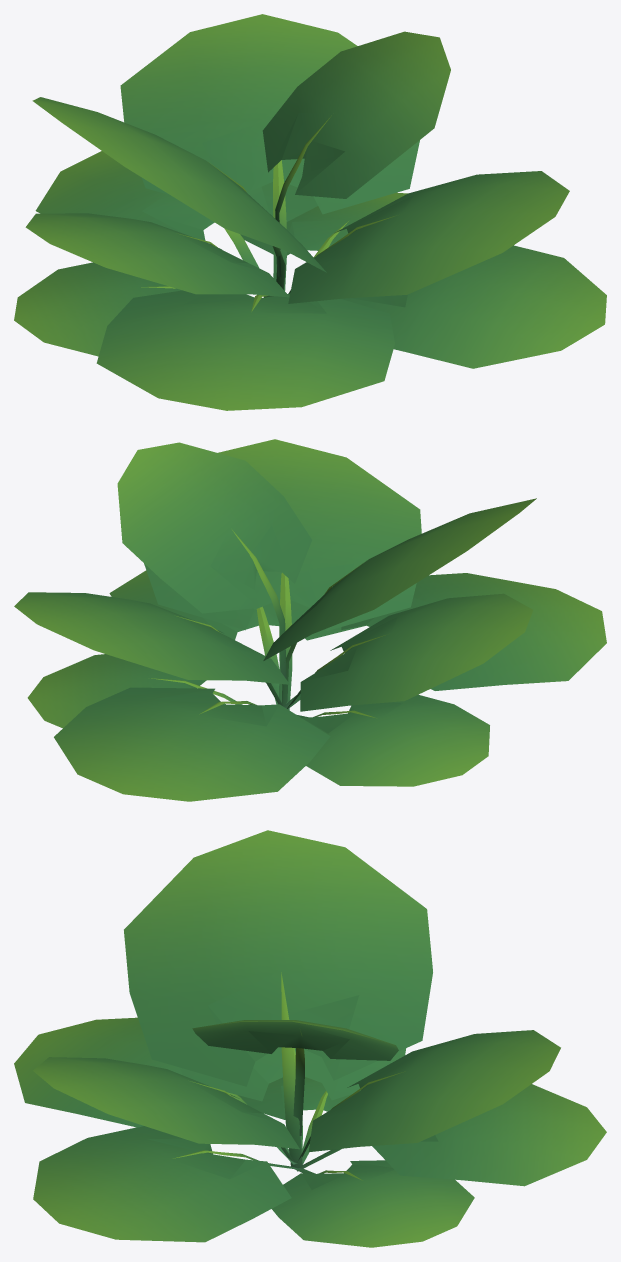
The model's file is plant_32.fbx.
The picture shows the model from 3 angles, top to bottom: view 1: azimuth 30°, elevation 25°; view 2: azimuth 150°, elevation 25°; view 3: azimuth 270°, elevation 25°; orthographic projection. The views are drawn at different scales.
Parts seen in each view (by area): view 1: plant_32; view 2: plant_32; view 3: plant_32.
Part boxes in pixels (bbox=[...]): plant_32: bbox=[14, 14, 606, 410]; plant_32: bbox=[14, 439, 606, 801]; plant_32: bbox=[14, 830, 606, 1247].
Bounding box in the file's own units: 3.31 × 1.72 × 3.92.
